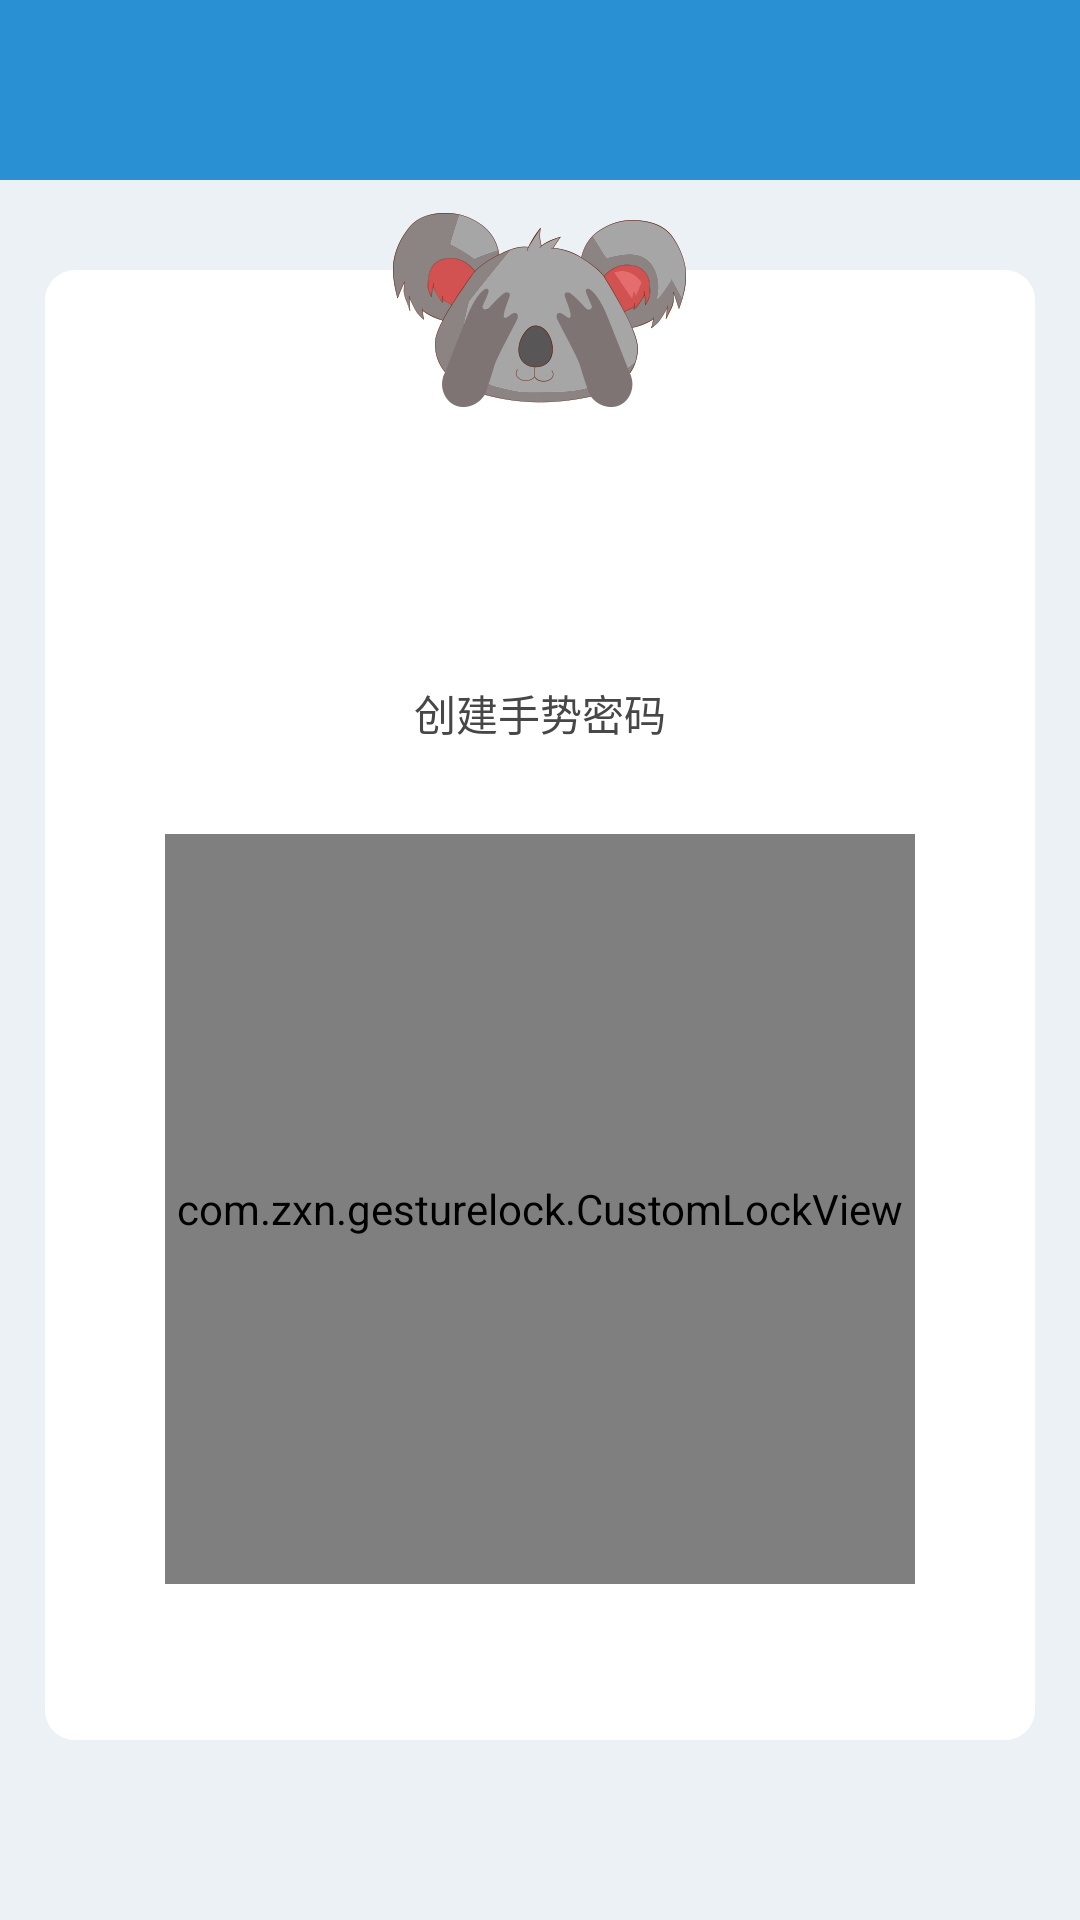

Screen size 1080×1920. Icon name, then its box in pixels as [left=x1, top=y1, right=x2, bottom=y2]:
mascot close: [left=393, top=213, right=686, bottom=407]
